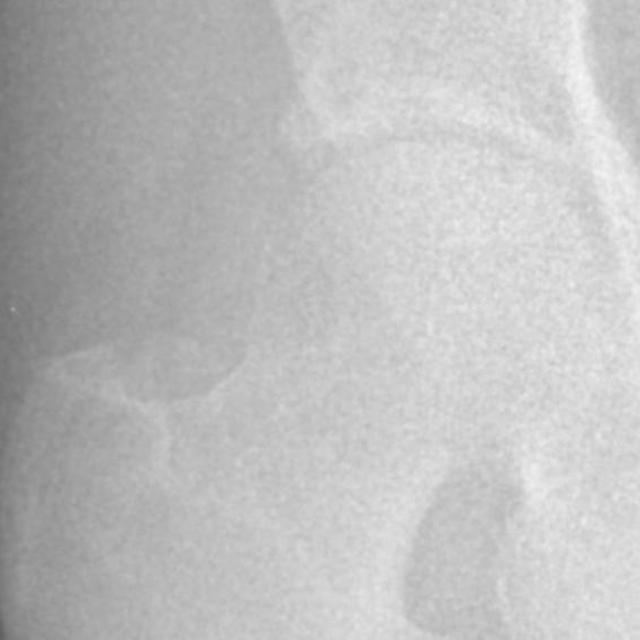Fitted_femural_head: (341, 134, 432, 341)
